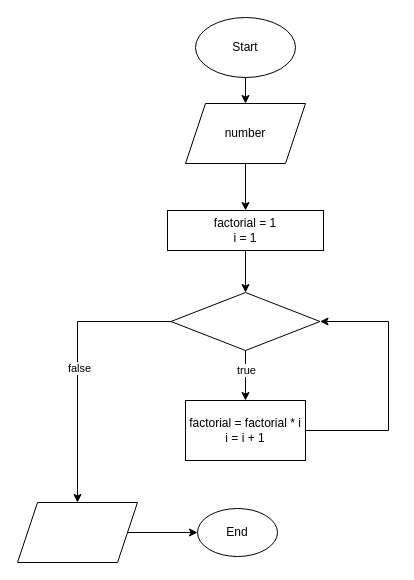
This 414x580 diagram has some shape labels left out. Each missing label, with the centre of its shape:
"i <= number" belongs at point (245, 321).
"print factorial" belongs at point (77, 532).
